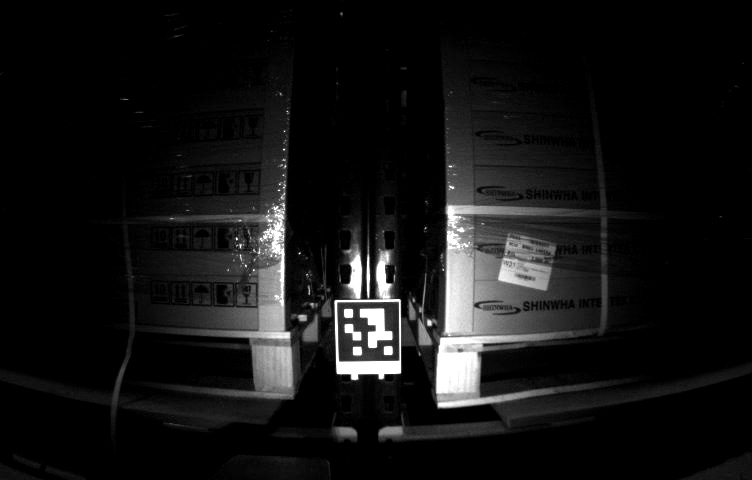True Barcode: (497, 232, 559, 292)
